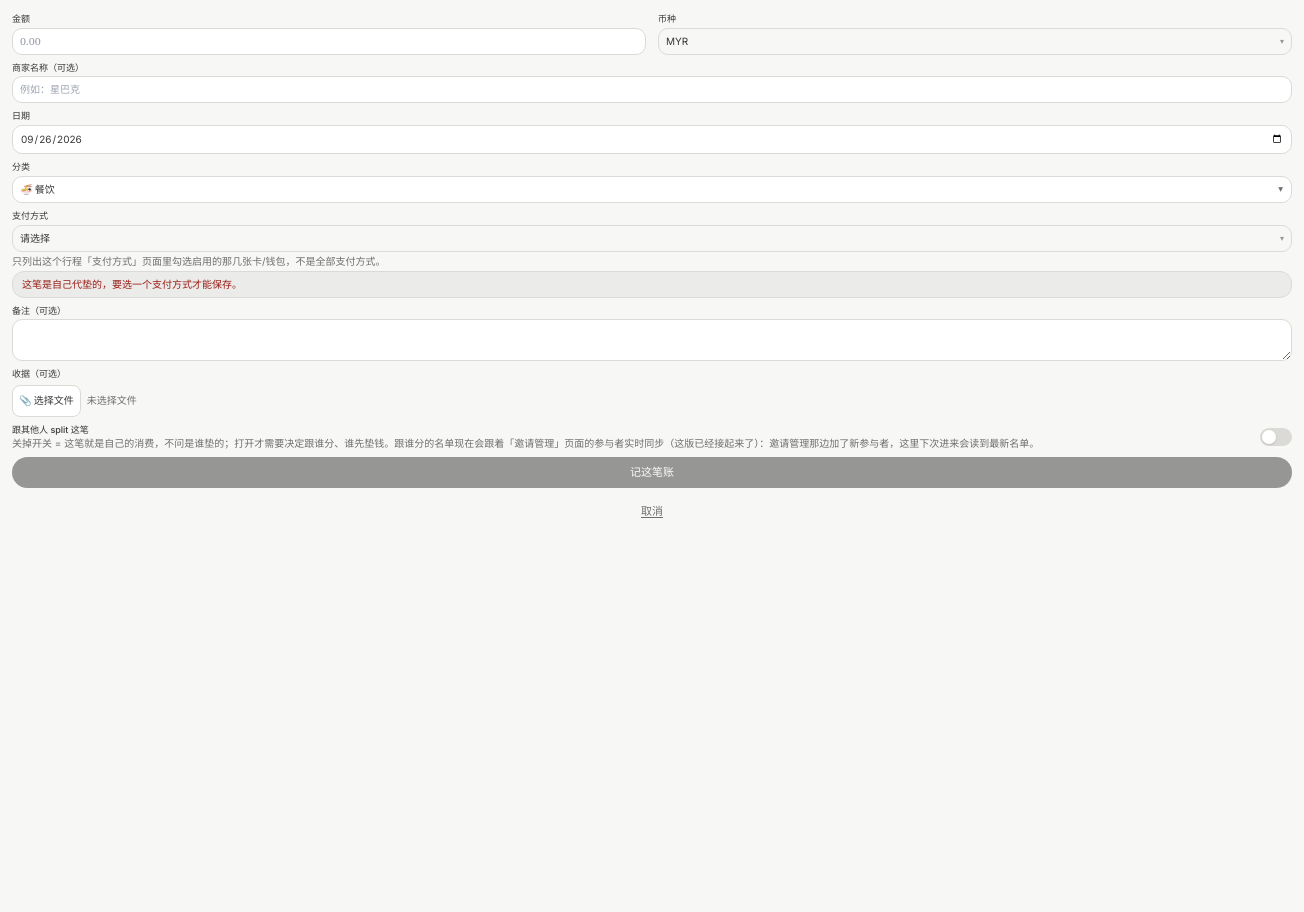
ExpenseForm — 第七十一轮任务⑦：代垫人是自己时必须选支付方式 › 代垫人是别人代垫时，不强制选支付方式，提交按钮不因此被禁用
This screenshot has width=1304, height=912.
In the field labelled "金额": point(329, 41) [12,28,646,54], type "100"
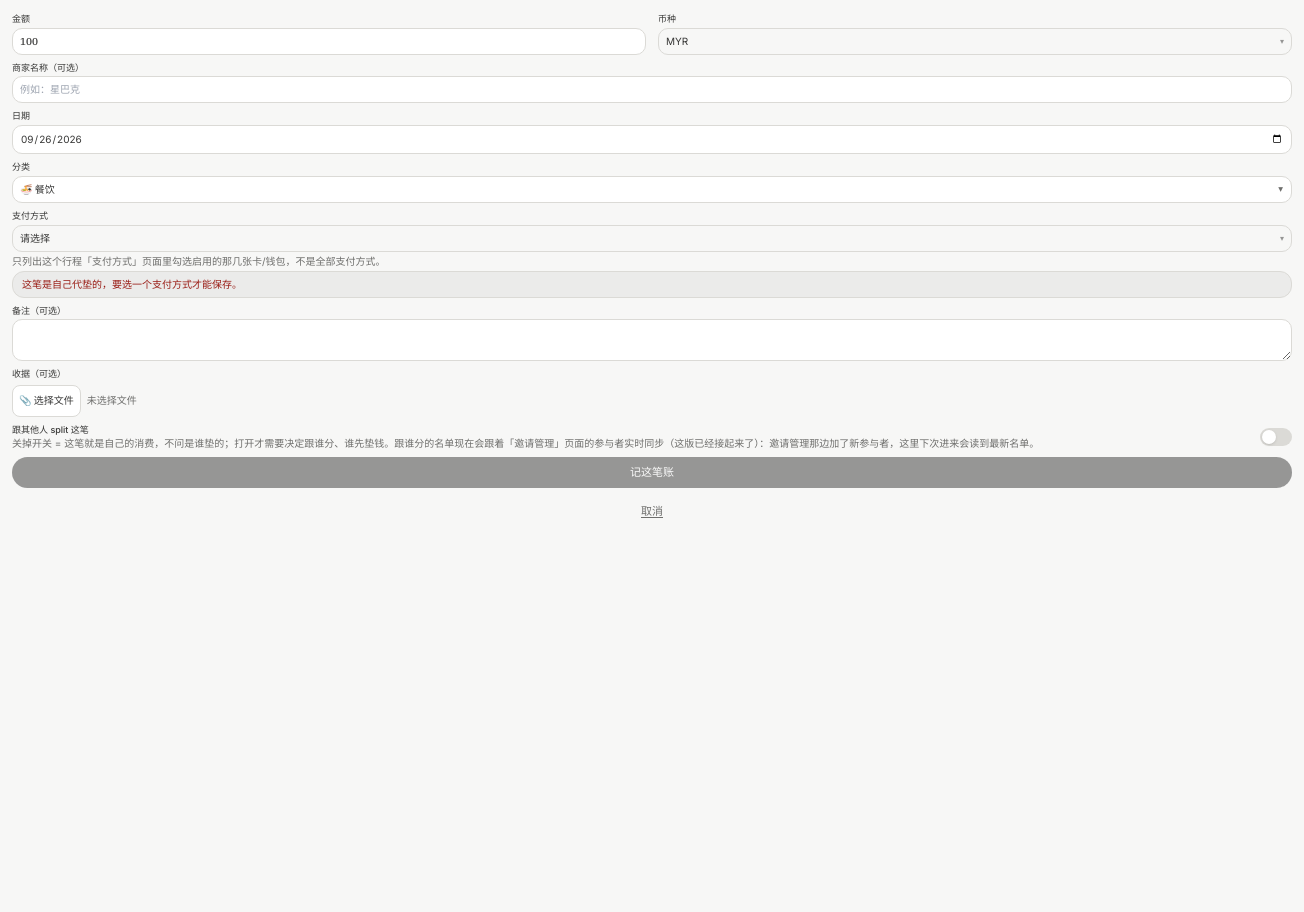
Click the switch named "跟其他人 split 这笔": point(1276, 437) [1260,428,1292,446]
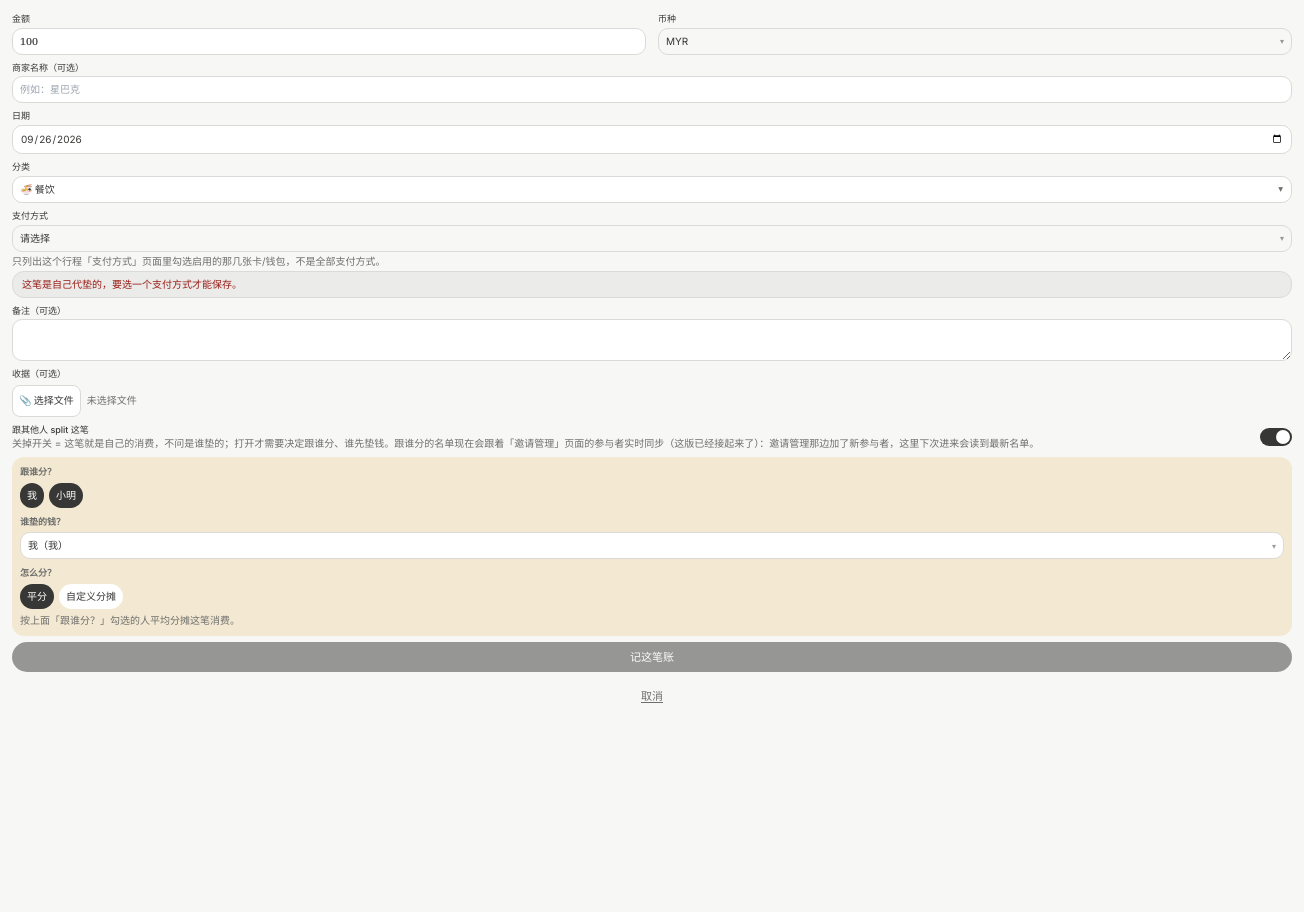
Click the button named "谁垫的钱？": point(48, 545) [20,532,1284,559]
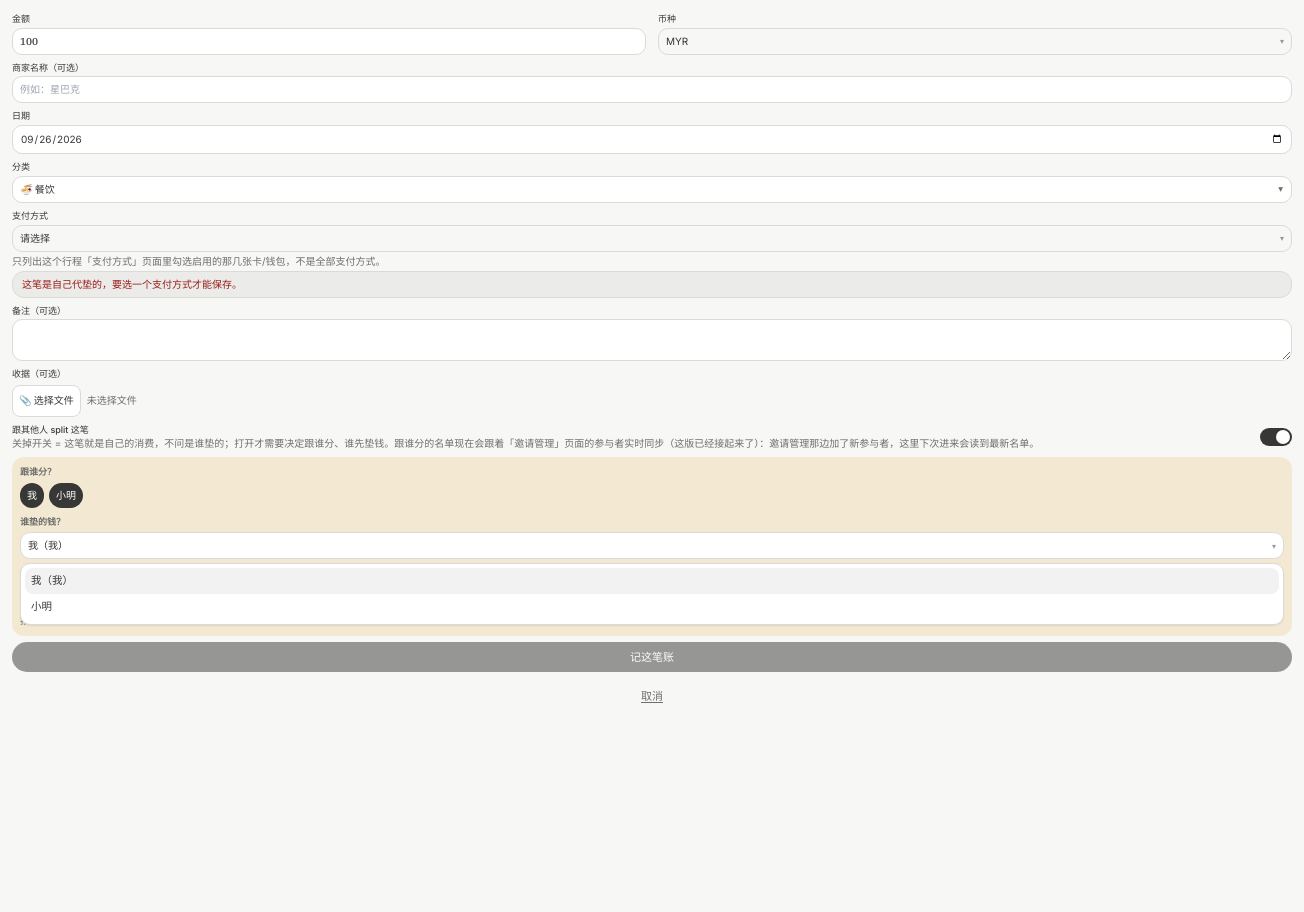
Press the mouse on the option "小明": point(42, 606) [31,600,52,613]
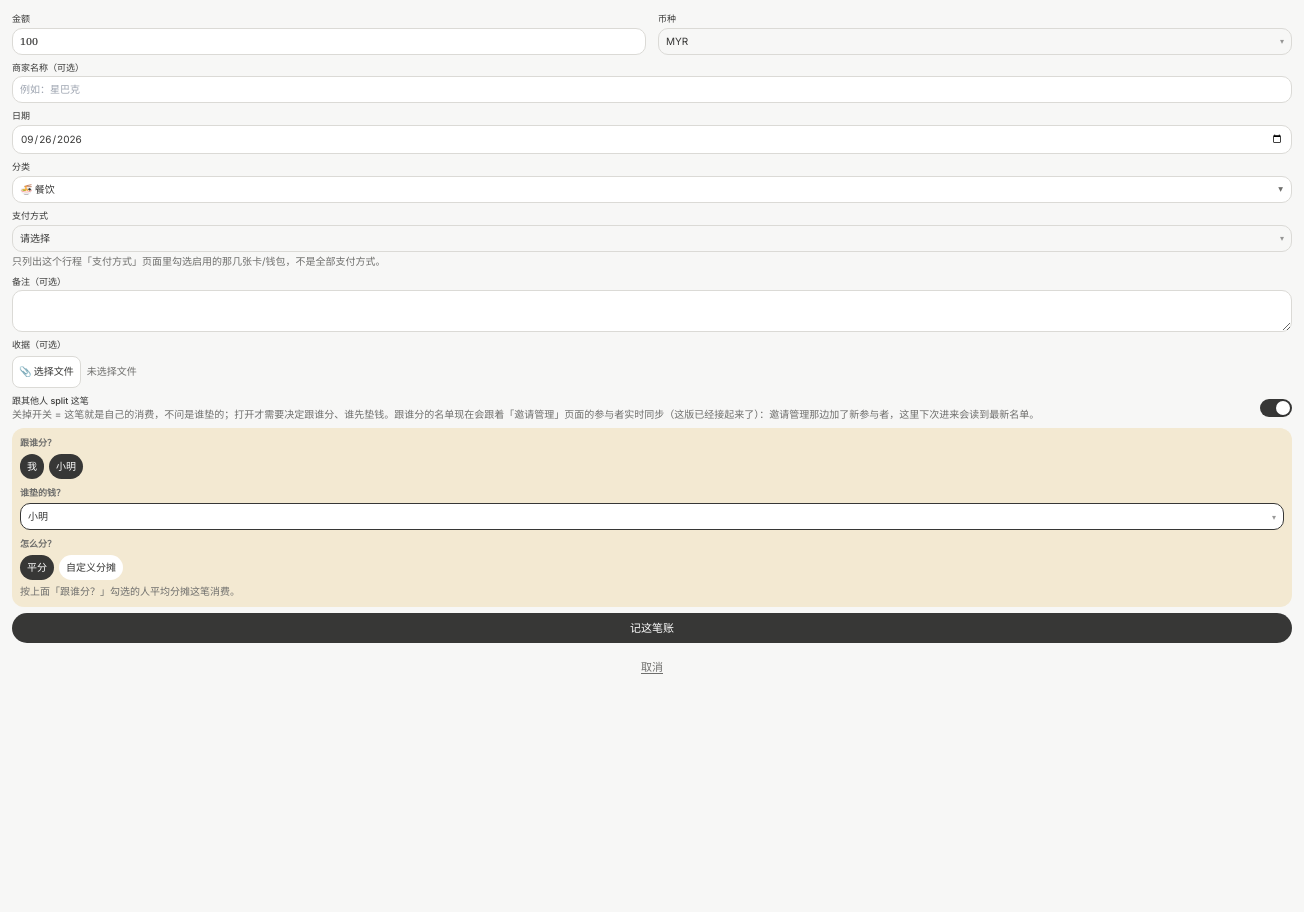
Expected: the button "记这笔账" is enabled, [12,612,1292,643]
